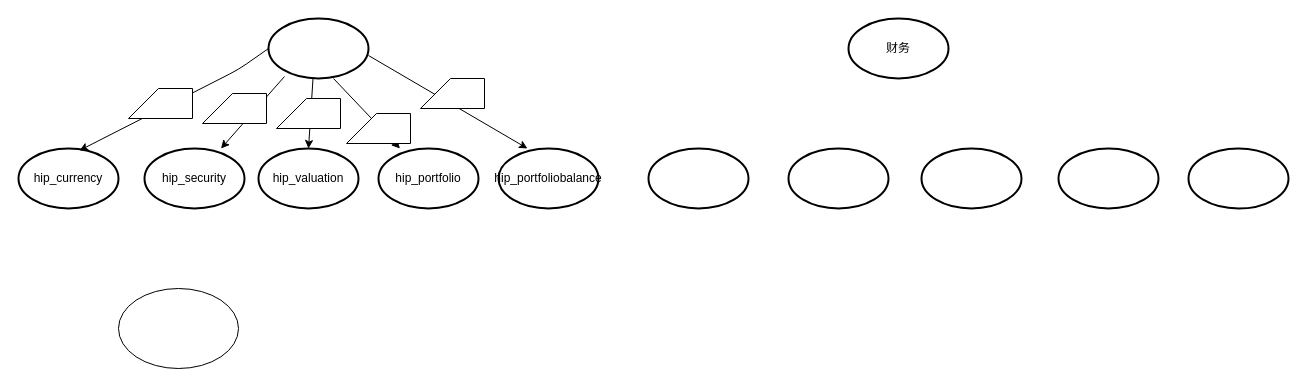
Some shapes in this 1306 by 386 pixel diagram are drawn without their labels. The shapes that lost their labels are listed below. From the top down, each one's box as (x1, y1, x2, y2) in pixels, then its label:
(267, 17, 369, 79): hip
(118, 288, 238, 368): 持仓数据
